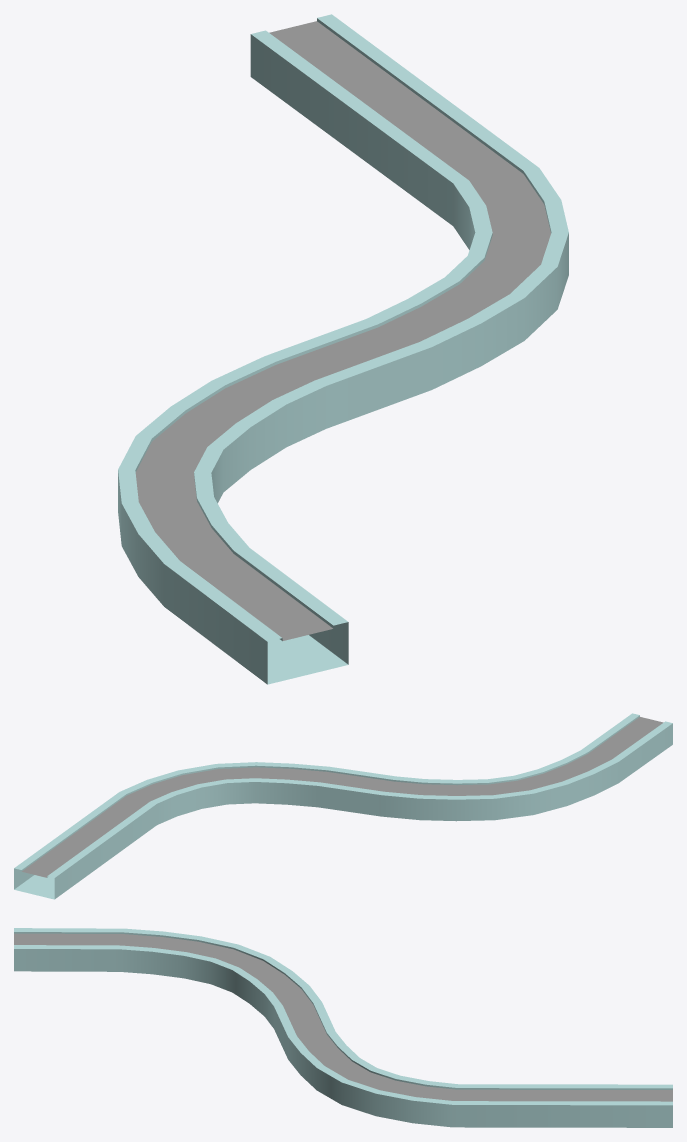
Rendered from curve_right#2.fbx.
3 views of the same model, one above another, from view 1: azimuth 30°, elevation 25°; view 2: azimuth 150°, elevation 25°; view 3: azimuth 270°, elevation 25° (orthographic). The views are drawn at different scales.
Visible parts, largest first — view 1: Cube.056; view 2: Cube.056; view 3: Cube.056.
Boxes of the visible parts, x1,y1,x2,y2 form: Cube.056: (118, 14, 568, 684); Cube.056: (14, 713, 672, 899); Cube.056: (14, 928, 672, 1127).
Size of the model in its own units: 1732 by 103 by 2721.
